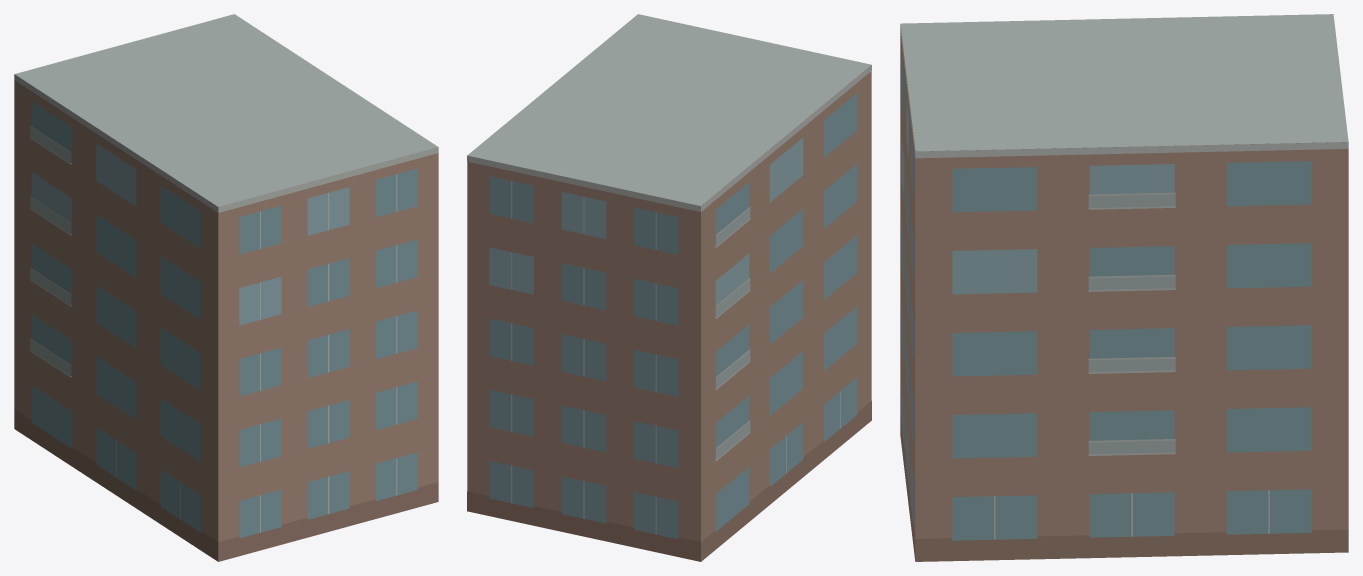
Rendered from survey-upis-32992983.glb.
The picture shows the model from 3 angles, left to right: view 1: azimuth 30°, elevation 25°; view 2: azimuth 150°, elevation 25°; view 3: azimuth 270°, elevation 25°; orthographic projection. The views are drawn at different scales.
Parts seen in each view (by area): view 1: survey-upis-32992983.tmp; view 2: survey-upis-32992983.tmp; view 3: survey-upis-32992983.tmp.
Boxes of the visible parts, x1=… form: survey-upis-32992983.tmp: x1=14, y1=14, x2=438, y2=561; survey-upis-32992983.tmp: x1=467, y1=14, x2=871, y2=561; survey-upis-32992983.tmp: x1=900, y1=14, x2=1348, y2=561.
Size of the model in its own units: 10.42 by 14.5 by 14.36.
